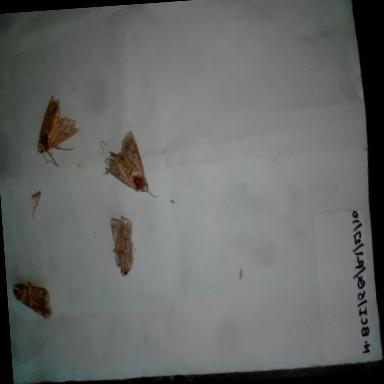abw: (96, 126, 162, 205), (28, 90, 84, 172), (100, 210, 144, 286), (7, 273, 57, 326)
